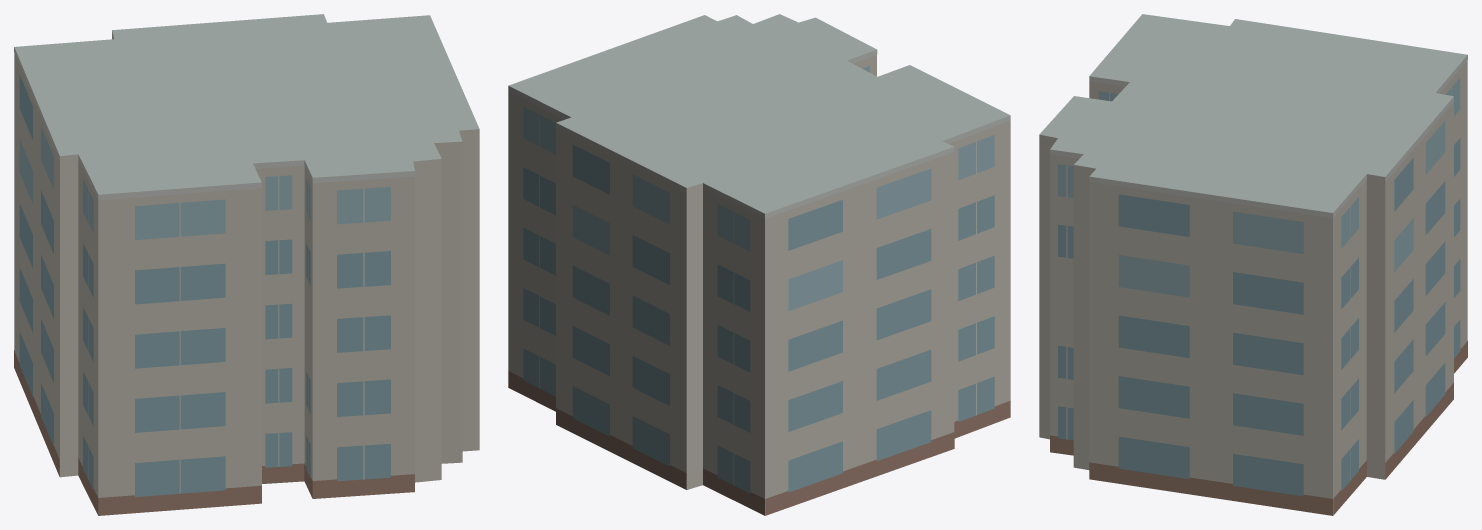
File: survey-upis-32854284.glb
The picture shows the model from 3 angles, left to right: view 1: azimuth 30°, elevation 25°; view 2: azimuth 150°, elevation 25°; view 3: azimuth 270°, elevation 25°; orthographic projection. The views are drawn at different scales.
Parts seen in each view (by area): view 1: survey-upis-32854284.tmp; view 2: survey-upis-32854284.tmp; view 3: survey-upis-32854284.tmp.
Part boxes in pixels (box(x1,y1,x2,y2)): survey-upis-32854284.tmp: box(14, 14, 479, 515); survey-upis-32854284.tmp: box(508, 14, 1010, 515); survey-upis-32854284.tmp: box(1039, 14, 1467, 515).
Bounding box in the file's own units: 20.03 × 14.2 × 18.22.
